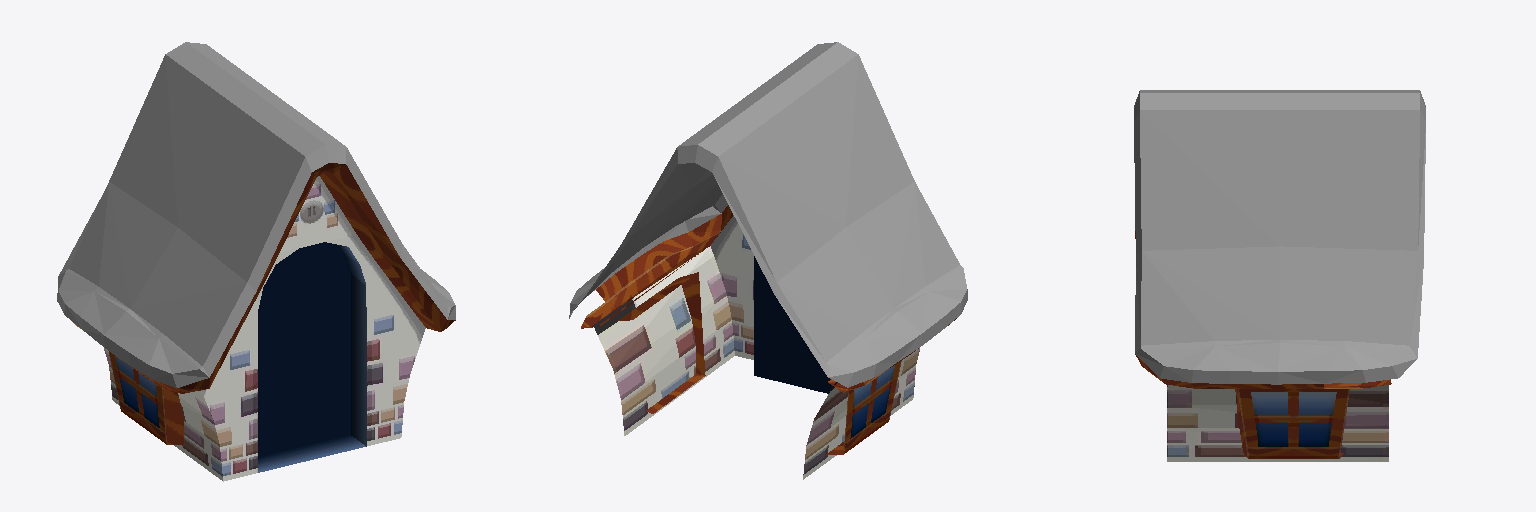
3 renders of one model, left to right at view 1: azimuth 30°, elevation 25°; view 2: azimuth 150°, elevation 25°; view 3: azimuth 270°, elevation 25°, orthographic.
Parts seen in each view (by area): view 1: vsn_mesh_1__mesh_1_, vsn_mesh_0__mesh_0_; view 2: vsn_mesh_1__mesh_1_, vsn_mesh_0__mesh_0_; view 3: vsn_mesh_1__mesh_1_, vsn_mesh_0__mesh_0_.
Part boxes in pixels (left/top/right/bottom): vsn_mesh_1__mesh_1_: left=57, top=42, right=455, bottom=387; vsn_mesh_0__mesh_0_: left=74, top=163, right=455, bottom=481; vsn_mesh_1__mesh_1_: left=569, top=42, right=967, bottom=387; vsn_mesh_0__mesh_0_: left=581, top=205, right=956, bottom=479; vsn_mesh_1__mesh_1_: left=1134, top=90, right=1425, bottom=384; vsn_mesh_0__mesh_0_: left=1135, top=231, right=1391, bottom=461.
Bounding box in the file's own units: 0.8952 × 0.9092 × 0.74.
2 materials, 1 textured.